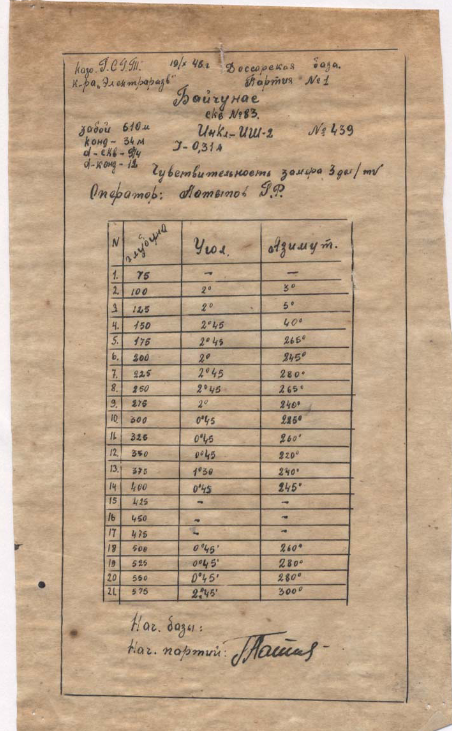Bordered: (106, 219, 355, 601)
